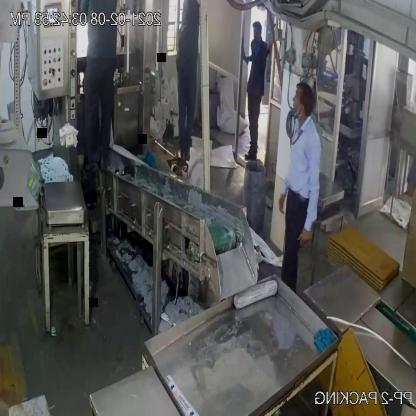no_glove: (296, 148, 320, 252)
